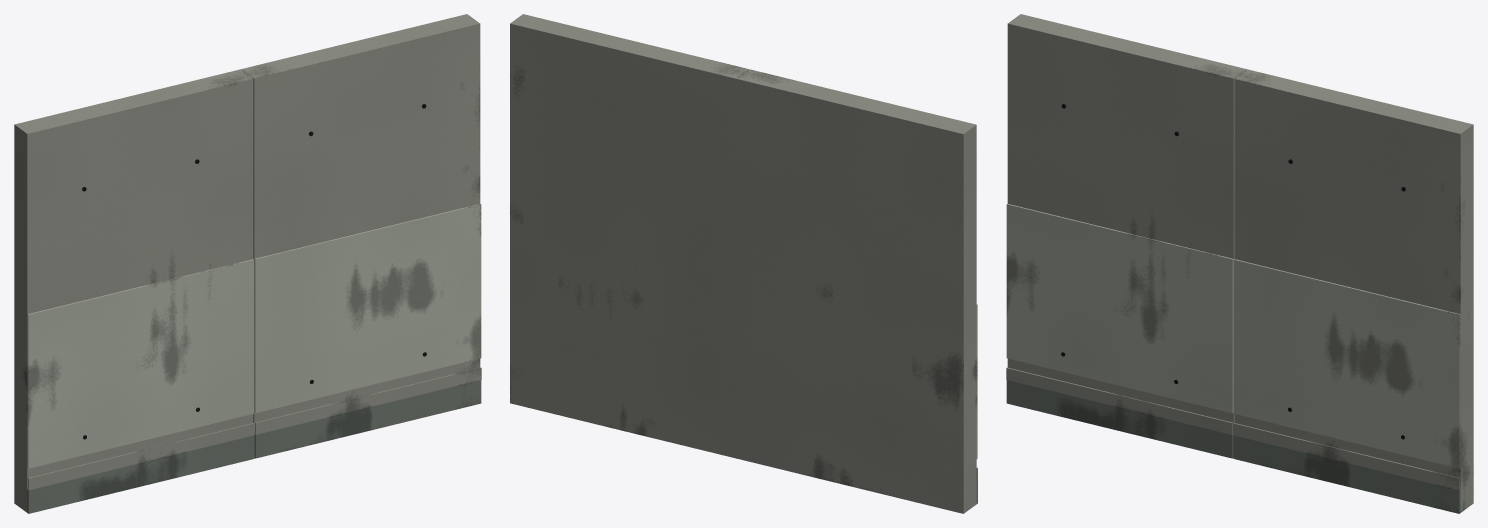
The model's file is wall_4m.glb.
3 renders of one model, left to right at view 1: azimuth 30°, elevation 25°; view 2: azimuth 150°, elevation 25°; view 3: azimuth 330°, elevation 25°, orthographic.
Parts seen in each view (by area): view 1: wall_4m; view 2: wall_4m; view 3: wall_4m.
Part boxes in pixels (x1=…): wall_4m: x1=14, y1=14, x2=481, y2=513; wall_4m: x1=510, y1=14, x2=977, y2=513; wall_4m: x1=1006, y1=14, x2=1473, y2=513.
Size of what is drawn, in the model's own units: 4 by 3.2 by 0.22.
1 material, 1 textured.
